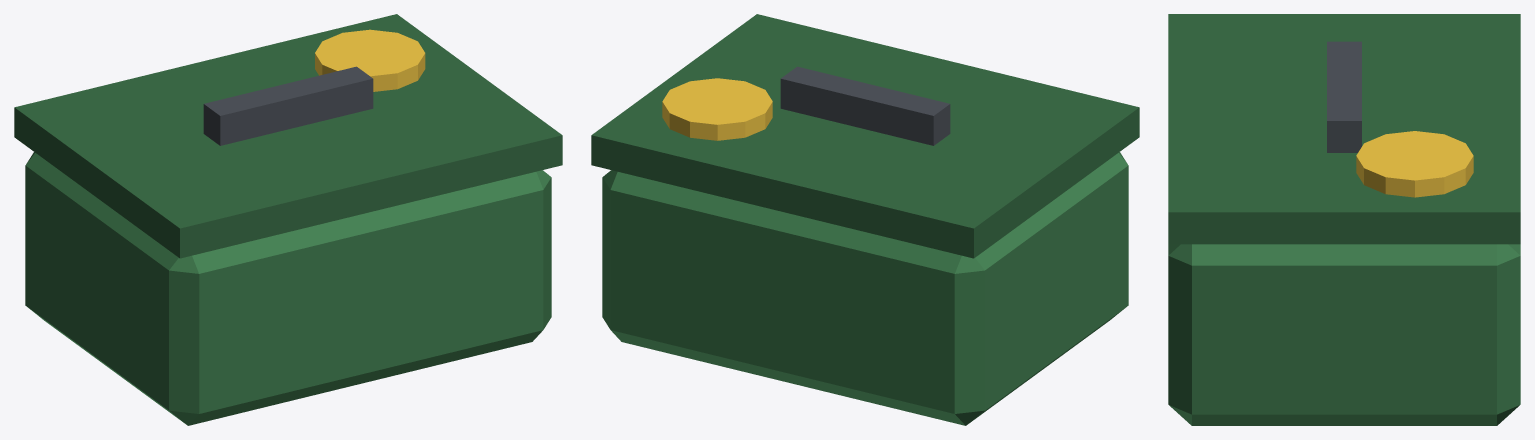
The model's file is prop_coffee_p1.glb.
3 views of the same model, side by side, from view 1: azimuth 30°, elevation 25°; view 2: azimuth 150°, elevation 25°; view 3: azimuth 270°, elevation 25° (orthographic). The views are drawn at different scales.
Visible parts, largest first — view 1: prop_coffee_p1_mesh; view 2: prop_coffee_p1_mesh; view 3: prop_coffee_p1_mesh.
Boxes of the visible parts, <box> form: prop_coffee_p1_mesh: <box>14,14,562,425</box>; prop_coffee_p1_mesh: <box>591,14,1139,425</box>; prop_coffee_p1_mesh: <box>1168,14,1520,425</box>.
Size of the model in its own units: 0.2 by 0.12 by 0.15.
